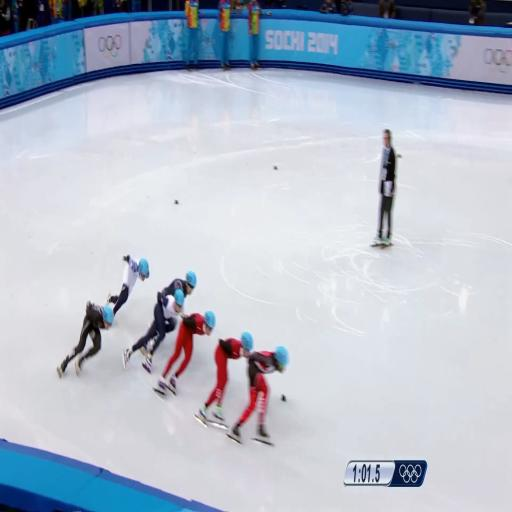Skater: (228, 347, 288, 443), (197, 332, 253, 424), (123, 290, 184, 373), (154, 311, 215, 394), (57, 302, 113, 376), (107, 256, 149, 315), (162, 271, 196, 297)
